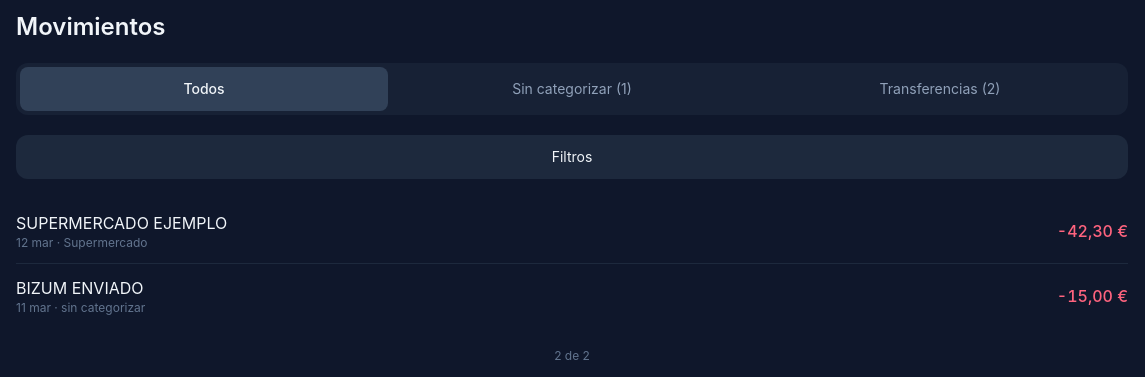
it: TransactionsScreen · la bandeja de pendientes › al pulsarla, pide solo los movimientos sin categoría
Click the tab "Sin categorizar (1)": (572, 89) [388,67,756,111]
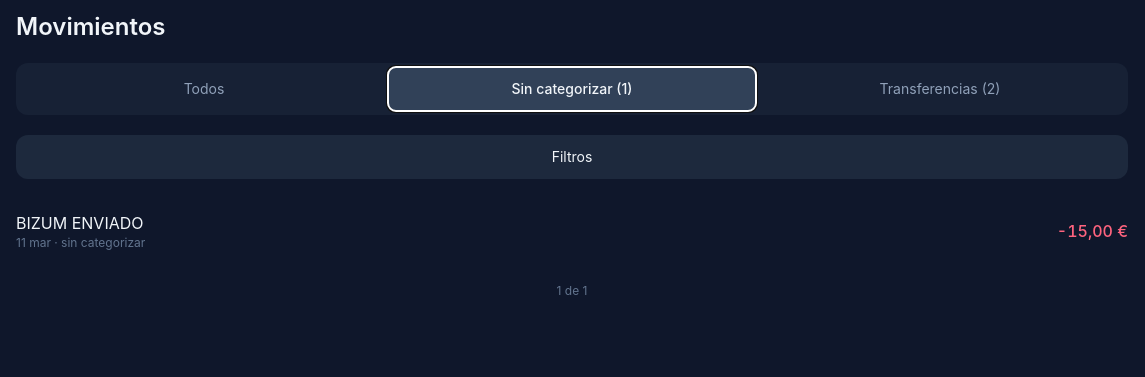
Check: the text "BIZUM ENVIADO" is shown, box [16,213,144,233]
Check: the link "SUPERMERCADO EJEMPLO" is gone
